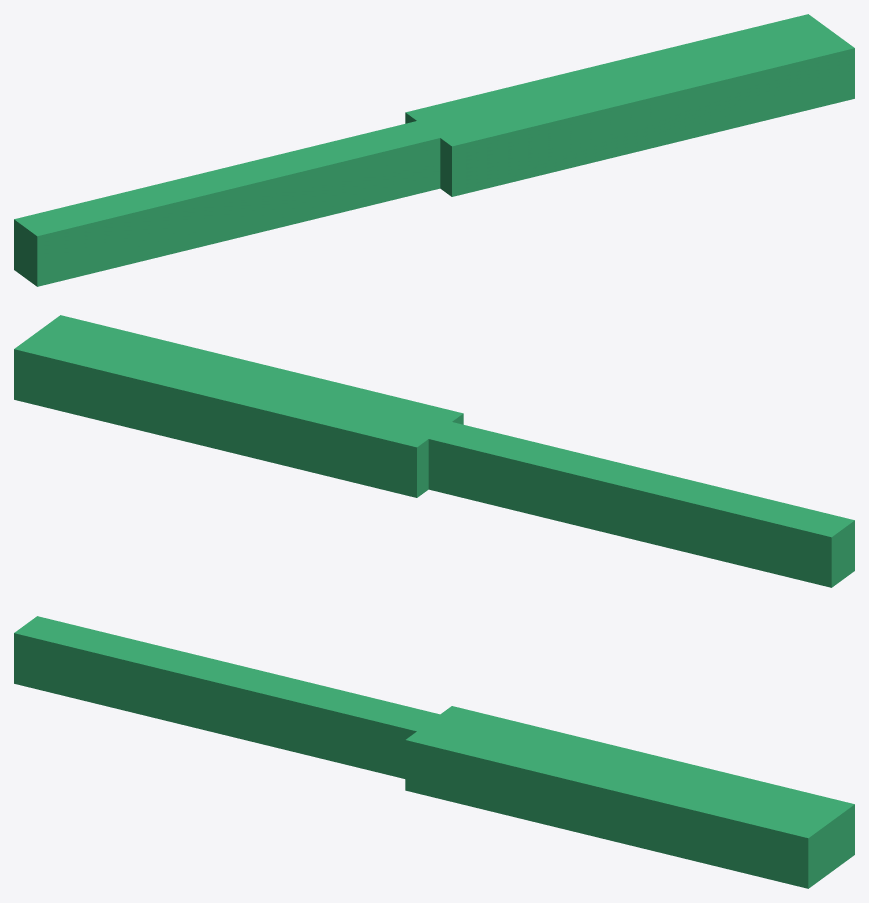
Rendered from hierarchy.glb.
3 renders of one model, top to bottom at view 1: azimuth 30°, elevation 25°; view 2: azimuth 150°, elevation 25°; view 3: azimuth 330°, elevation 25°, orthographic.
Bounding box in the file's own units: 2 × 0.12 × 0.2.
